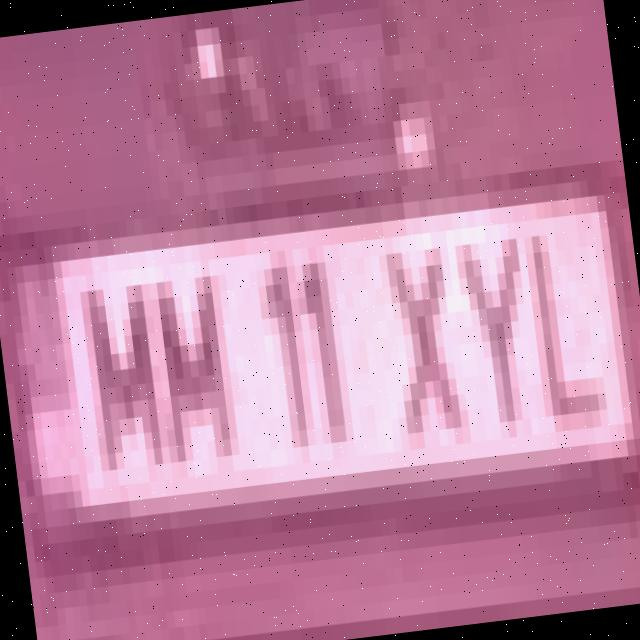Autre: (8, 194, 626, 523)
